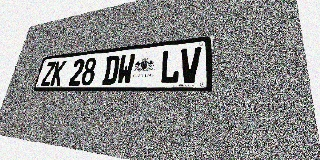2: (68, 58, 86, 86)
8: (80, 57, 98, 85)
D: (101, 55, 120, 85)
K: (50, 60, 66, 86)
L: (159, 49, 181, 84)
V: (179, 47, 201, 84)
W: (116, 53, 135, 85)
Z: (40, 61, 56, 86)
